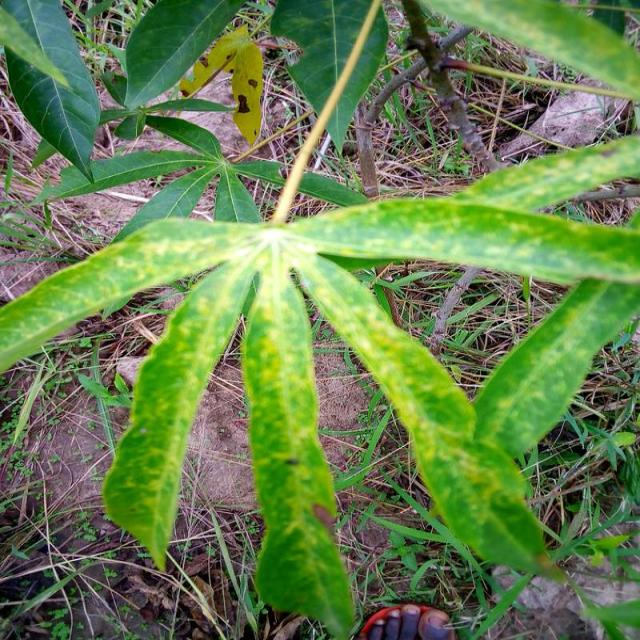cassava leaf: (2, 130, 639, 635), (242, 246, 356, 637), (270, 0, 390, 157), (2, 0, 103, 181)
